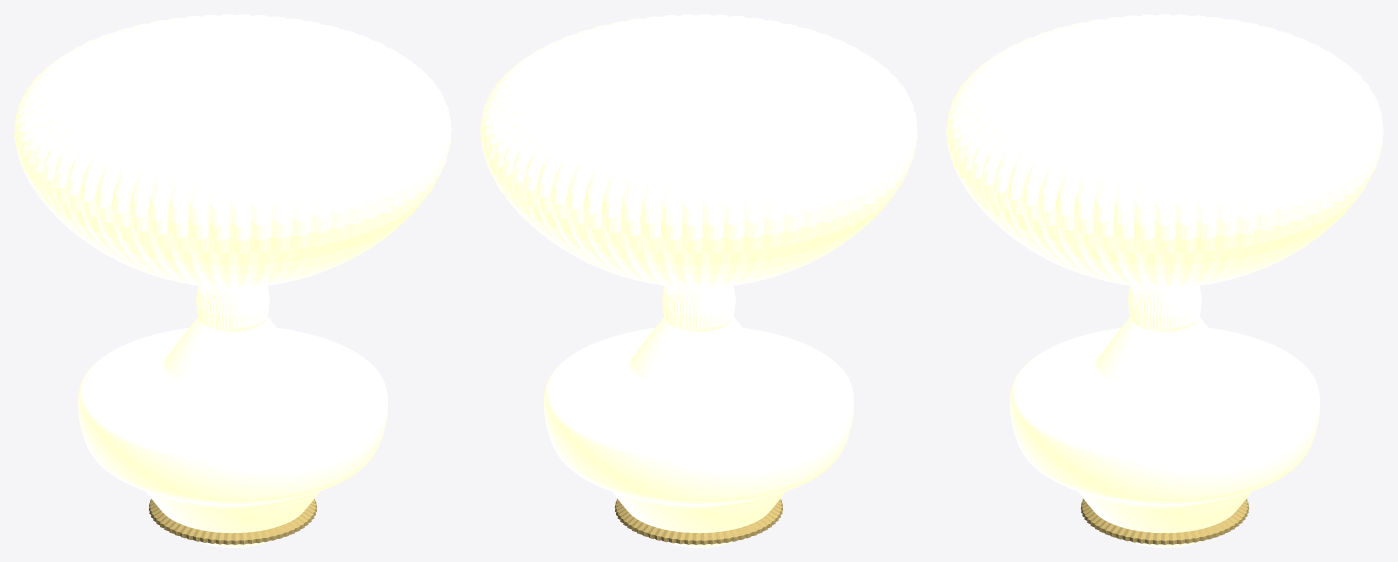
3 views of the same model, side by side, from view 1: azimuth 30°, elevation 25°; view 2: azimuth 150°, elevation 25°; view 3: azimuth 270°, elevation 25° (orthographic).
Parts seen in each view (by area): view 1: Glass_Shade, Glass_Bulb, Glass_Neck, Brass_Base; view 2: Glass_Shade, Glass_Bulb, Glass_Neck, Brass_Base; view 3: Glass_Shade, Glass_Bulb, Glass_Neck, Brass_Base.
Part boxes in pixels (box(x1,y1,x2,y2)): Glass_Shade: box(14, 14, 451, 287); Glass_Bulb: box(78, 317, 387, 547); Glass_Neck: box(196, 285, 269, 331); Brass_Base: box(149, 499, 316, 544); Glass_Shade: box(480, 14, 917, 287); Glass_Bulb: box(544, 317, 853, 547); Glass_Neck: box(662, 285, 735, 331); Brass_Base: box(615, 499, 782, 544); Glass_Shade: box(946, 14, 1383, 287); Glass_Bulb: box(1010, 317, 1319, 547); Glass_Neck: box(1128, 285, 1201, 331); Brass_Base: box(1081, 498, 1248, 544).
Size of the model in its own units: 2.47 by 2.94 by 2.47.
